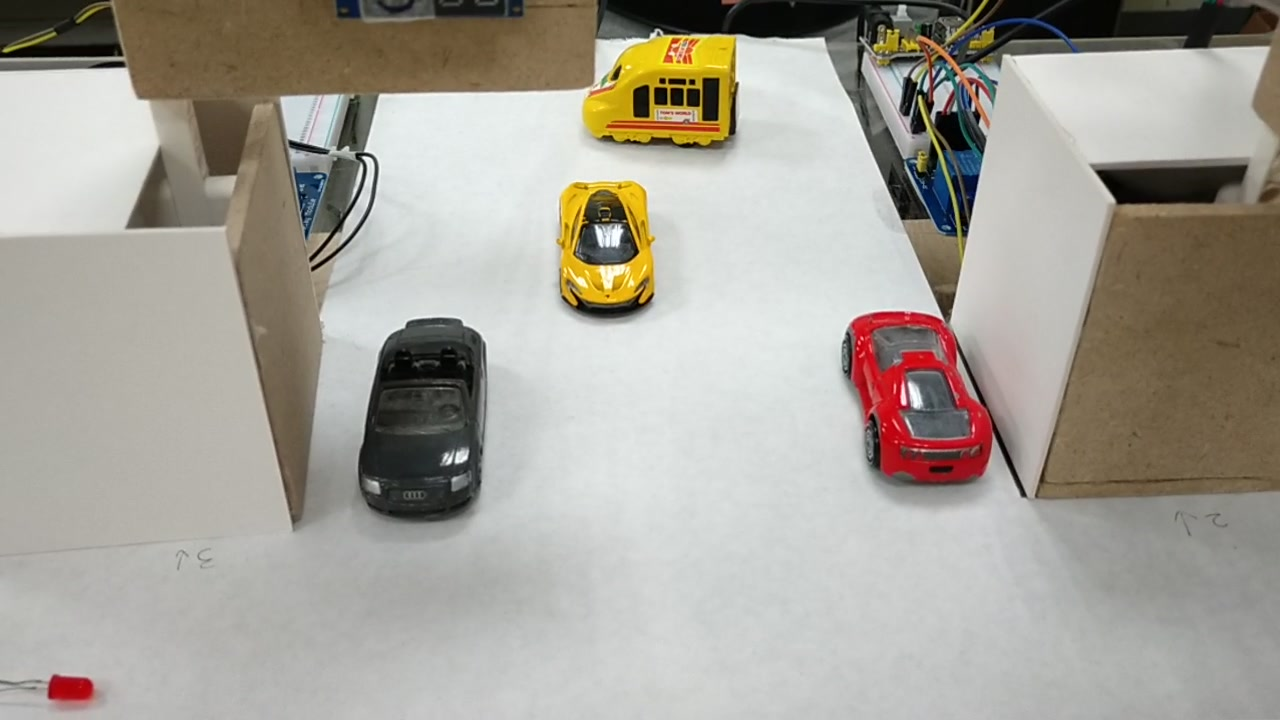car: (846, 309, 987, 479), (358, 325, 480, 514), (566, 173, 646, 306)
